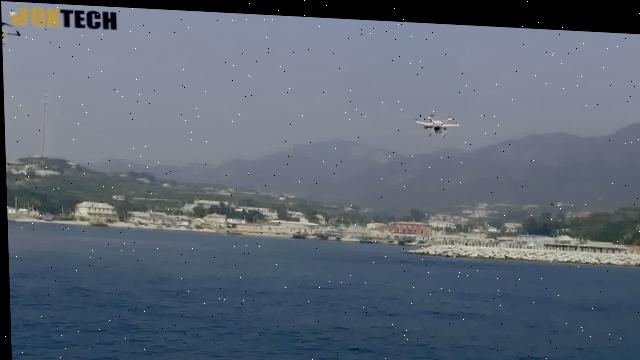drone: (413, 101, 467, 136)
